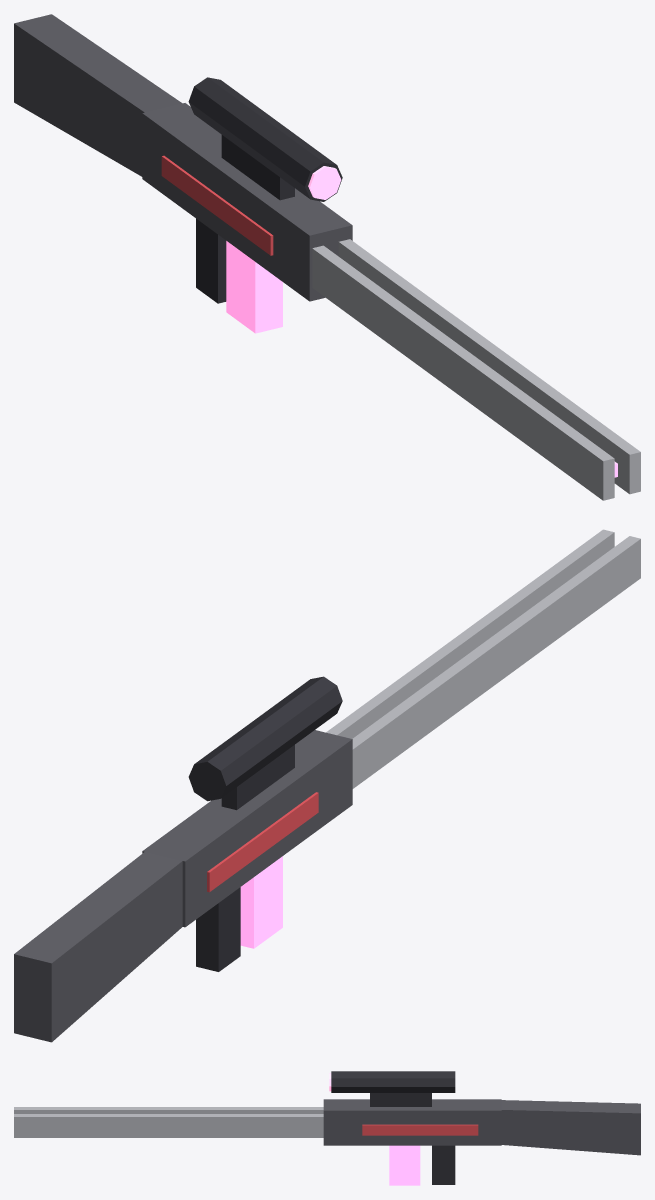
The model's file is weapon_F2_BeamRifle.glb.
3 renders of one model, top to bottom at view 1: azimuth 30°, elevation 25°; view 2: azimuth 150°, elevation 25°; view 3: azimuth 270°, elevation 25°, orthographic. The views are drawn at different scales.
Visible parts, largest first — view 1: Body, Mag; view 2: Body, Mag; view 3: Body, Mag.
Boxes of the visible parts, bbox=[...] form: Body: bbox=[14, 14, 640, 500]; Mag: bbox=[226, 241, 282, 333]; Body: bbox=[14, 529, 640, 1042]; Mag: bbox=[240, 856, 282, 948]; Body: bbox=[14, 1071, 640, 1184]; Mag: bbox=[389, 1145, 420, 1185].
Bounding box in the file's own units: 0.076 × 0.315 × 1.62.
